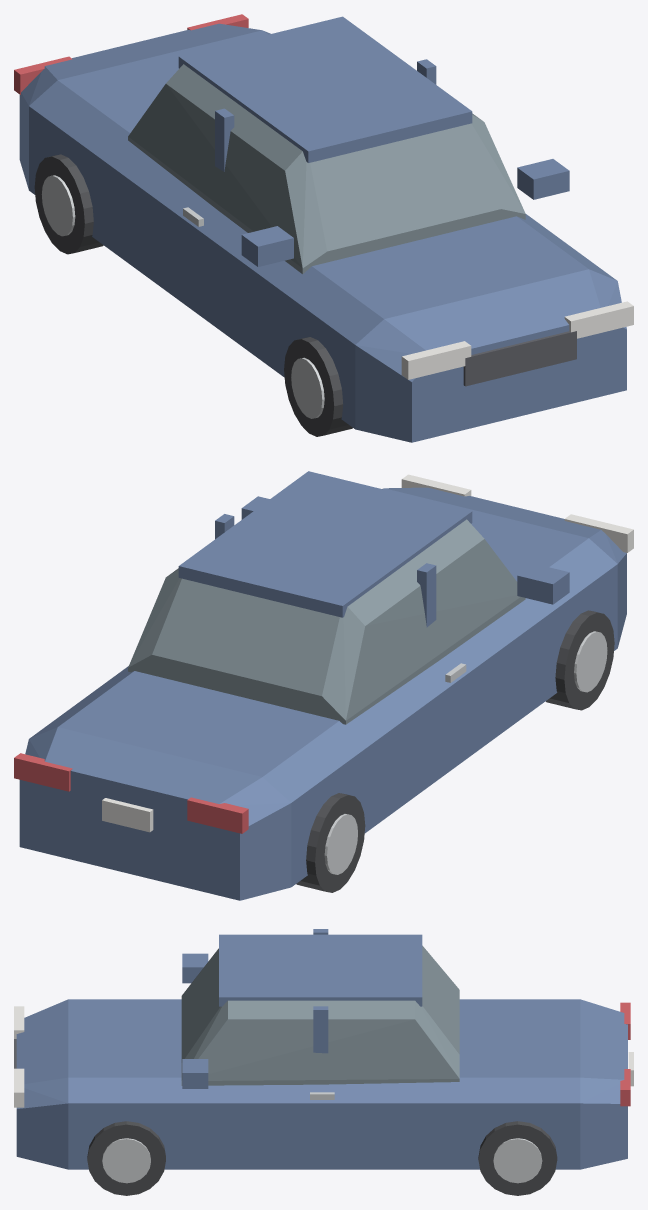
The model's file is accord-2005.glb.
3 renders of one model, top to bottom at view 1: azimuth 30°, elevation 25°; view 2: azimuth 150°, elevation 25°; view 3: azimuth 270°, elevation 25°, orthographic. The views are drawn at different scales.
Visible parts, largest first — view 1: body, cabin_glass, roof, grille, wheel_-1_-1_tire, wheel_-1_1_tire, headlight_-1, mirror_-1, mirror_1, headlight_1, wheel_-1_1_rim, wheel_-1_-1_rim (+2 smaller); view 2: body, cabin_glass, roof, wheel_-1_1_tire, wheel_-1_-1_tire, mirror_-1, taillight_-1, wheel_-1_1_rim, wheel_-1_-1_rim, taillight_1, rear_plate, headlight_-1 (+2 smaller); view 3: body, cabin_glass, roof, wheel_1_-1_tire, wheel_1_1_tire, wheel_1_-1_rim, wheel_1_1_rim, mirror_1, pillar_1, mirror_-1, headlight_1.
Part boxes in pixels (x1,y1,x2,y2): body: (19, 23, 626, 442); cabin_glass: (128, 64, 525, 274); roof: (178, 16, 472, 162); grille: (463, 331, 576, 386); wheel_-1_-1_tire: (34, 154, 103, 254); wheel_-1_1_tire: (284, 337, 352, 436); headlight_-1: (401, 341, 471, 379); mirror_-1: (241, 226, 293, 266); mirror_1: (517, 159, 569, 199); headlight_1: (564, 301, 633, 338); wheel_-1_1_rim: (291, 357, 324, 418); wheel_-1_-1_rim: (41, 175, 75, 236); body: (19, 487, 626, 900); cabin_glass: (128, 519, 525, 724); roof: (178, 471, 472, 617); wheel_-1_1_tire: (546, 610, 614, 710); wheel_-1_-1_tire: (296, 793, 365, 892); mirror_-1: (517, 563, 569, 604); taillight_-1: (187, 797, 248, 833); wheel_-1_1_rim: (574, 631, 607, 692); wheel_-1_-1_rim: (324, 814, 357, 874); taillight_1: (14, 753, 72, 791); rear_plate: (102, 798, 153, 832); headlight_-1: (564, 514, 633, 552); body: (16, 999, 627, 1169); cabin_glass: (181, 945, 459, 1085); roof: (219, 934, 422, 1006); wheel_1_-1_tire: (478, 1121, 557, 1195); wheel_1_1_tire: (87, 1121, 165, 1195); wheel_1_-1_rim: (493, 1138, 542, 1183); wheel_1_1_rim: (102, 1138, 150, 1183); mirror_1: (182, 1059, 208, 1088); pillar_1: (313, 1006, 328, 1053); mirror_-1: (182, 953, 208, 983); headlight_1: (14, 1068, 24, 1107).
Size of the model in its own units: 2.08 by 1.43 by 4.57.
